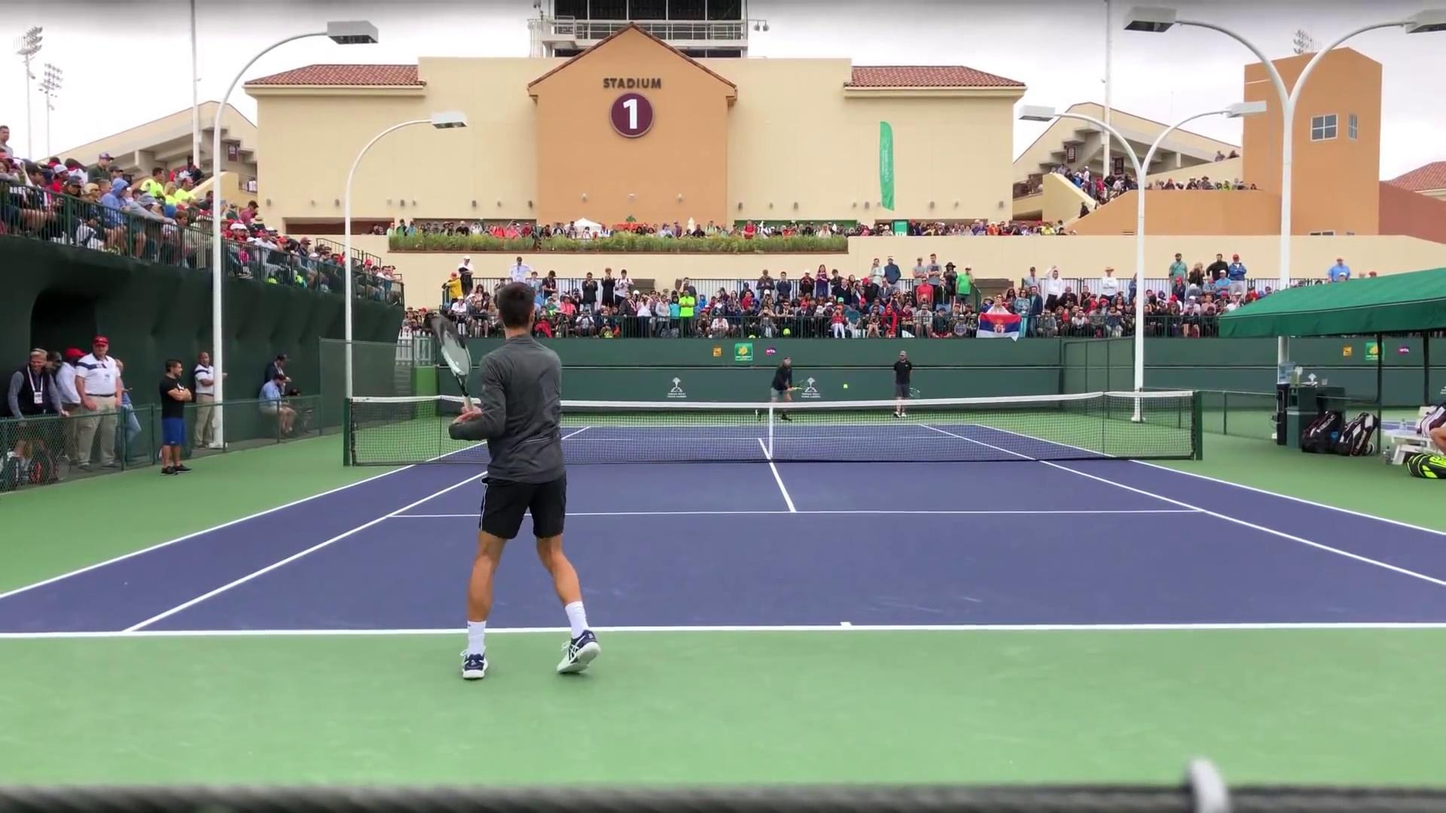ball: (843, 383, 848, 388)
